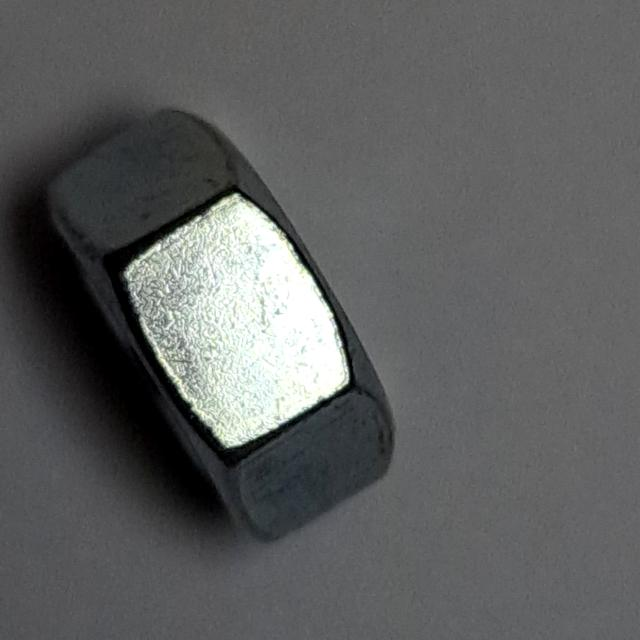Side_Excellent: (34, 98, 405, 554)
